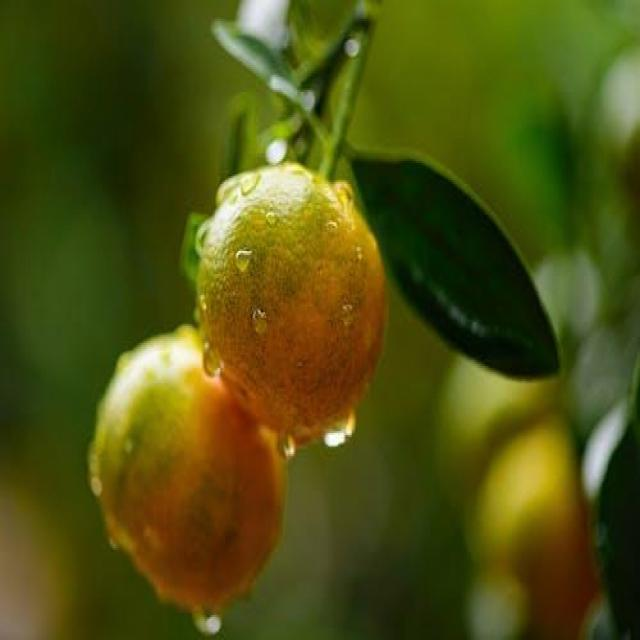Jeruk Sudah Matang: (88, 320, 286, 617), (197, 161, 388, 441)
